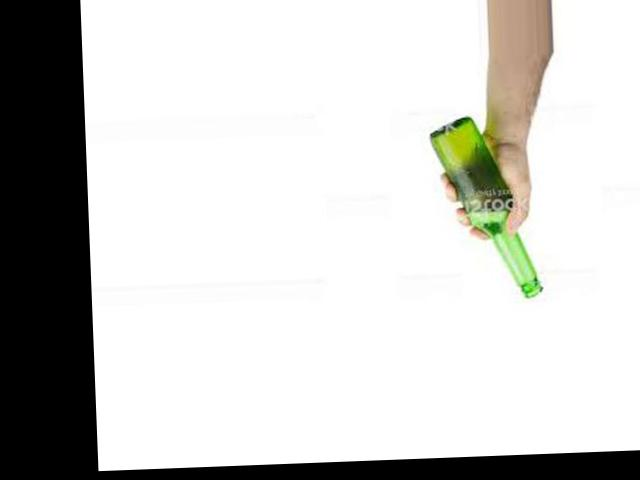beer: (428, 116, 543, 303)
